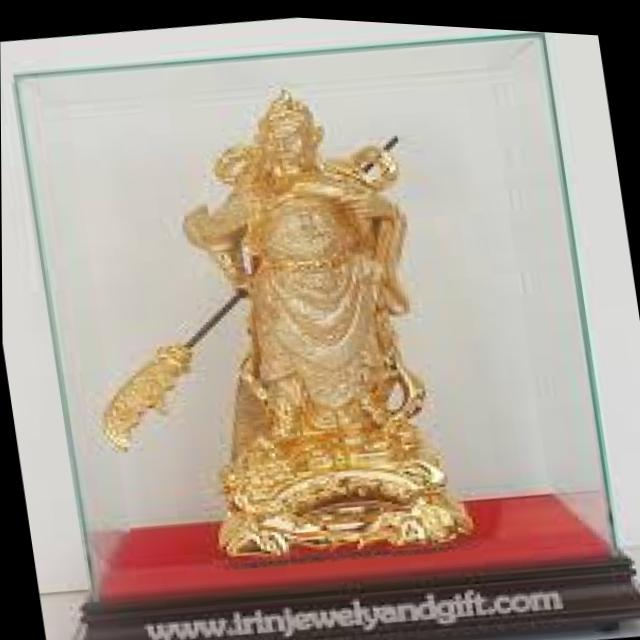Guan Yu: (161, 68, 456, 510)
